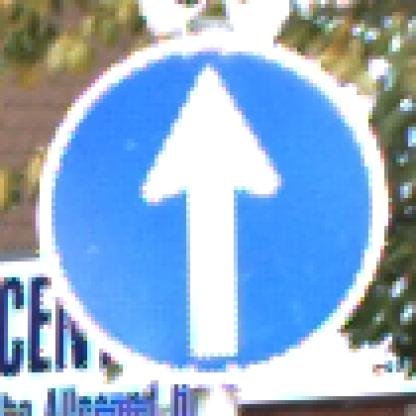AheadOnly: (41, 37, 381, 381)
